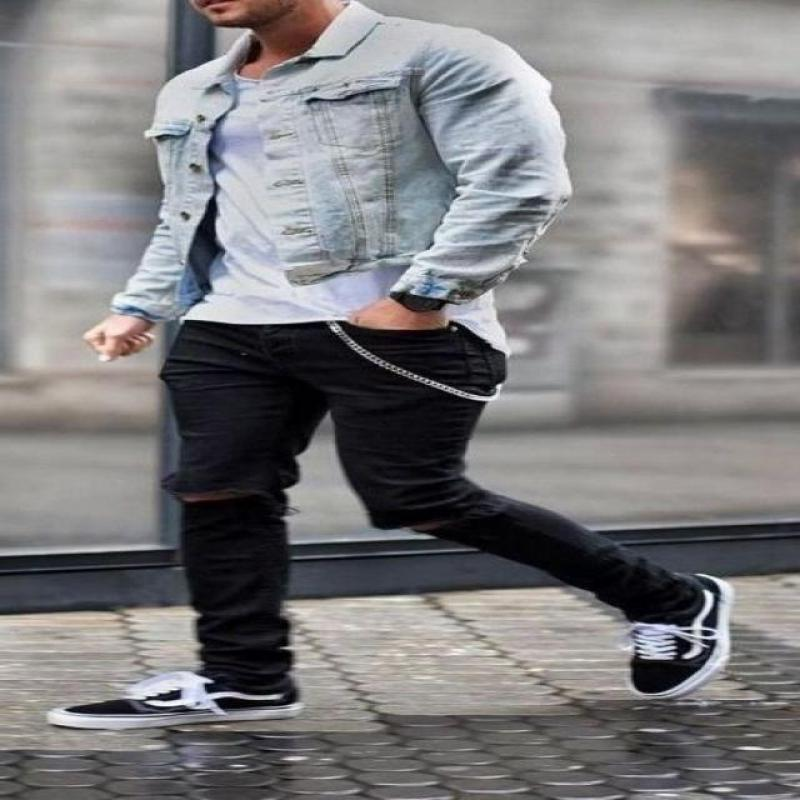jacket: (104, 0, 578, 324)
short sleeve shirt: (173, 75, 499, 331)
trousers: (155, 318, 682, 679)
